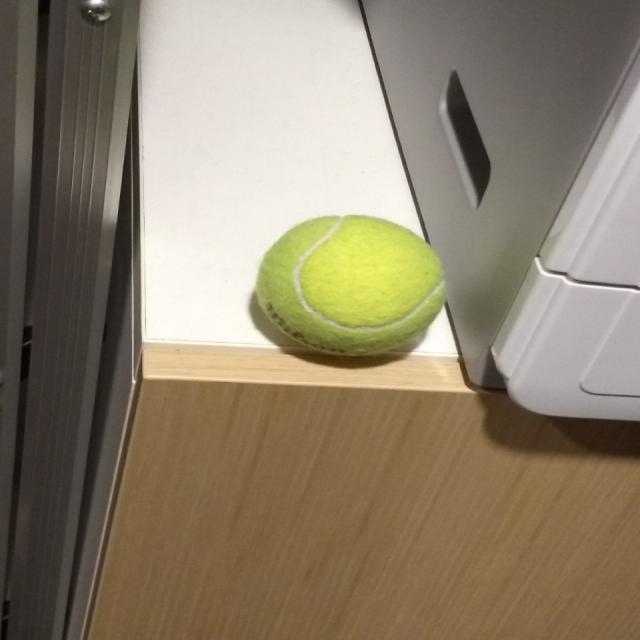tennis-ball: (256, 213, 449, 357)
